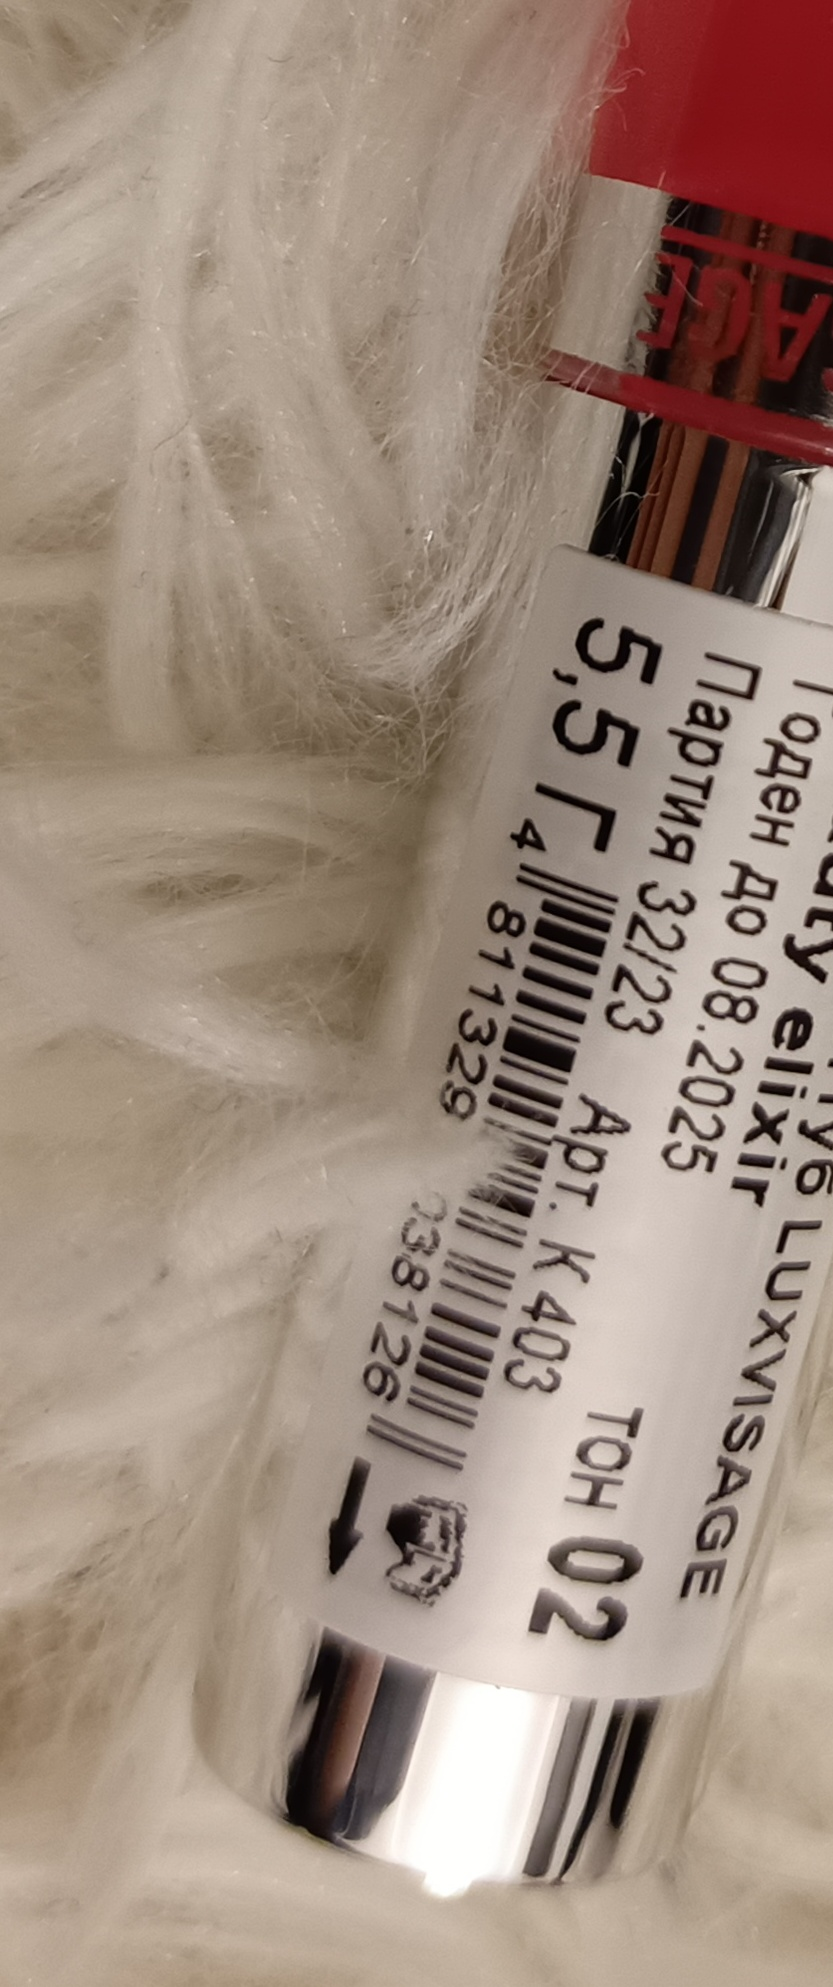1d: (360, 852, 631, 1481)
